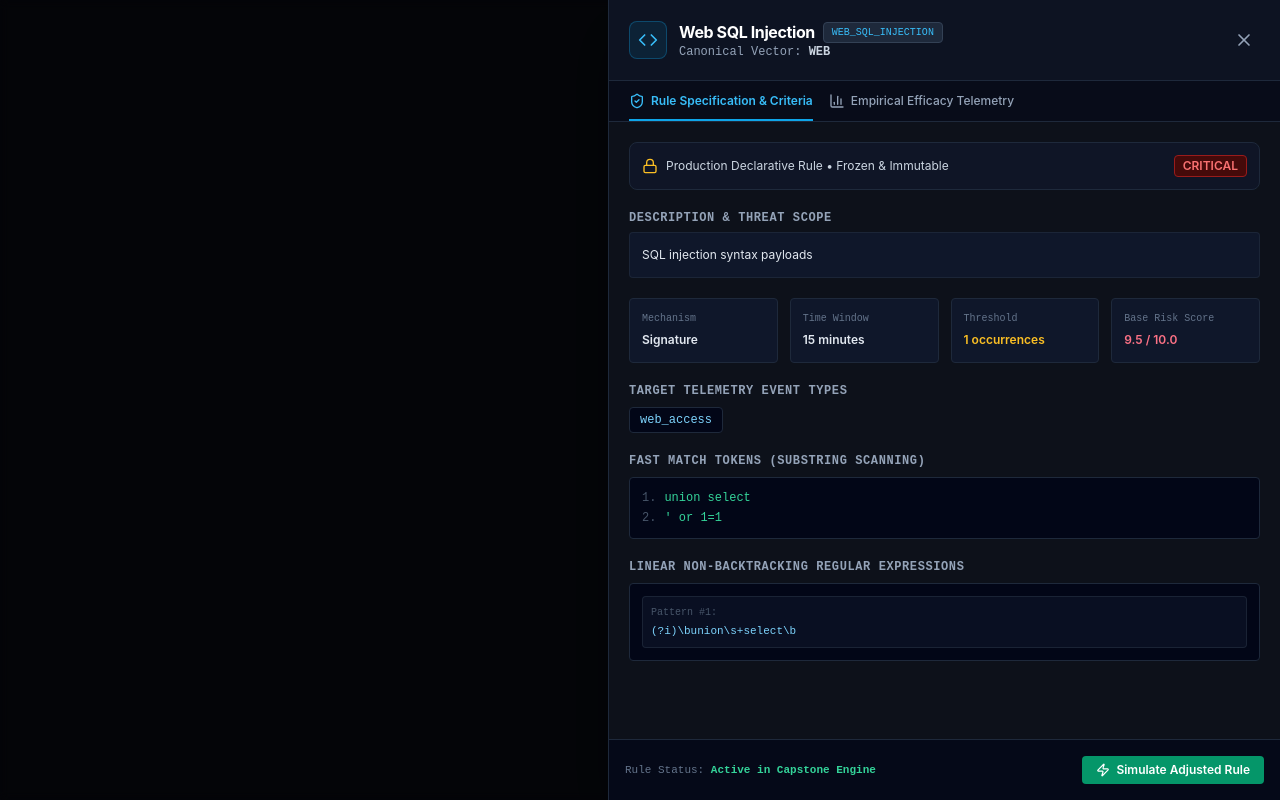
it: Module 3.3 Frontend Components › renders RuleDetailDrawer with criteria, match tokens, and efficacy tab
Expected: the heading "Web SQL Injection" is shown, left=679, top=20, right=815, bottom=44
Expected: the text "union select" is shown, left=664, top=490, right=751, bottom=504
# Switch to Efficacy Tab
Click the button "Empirical Efficacy Telemetry".
click(921, 107)  # box left=829, top=93, right=1014, bottom=121
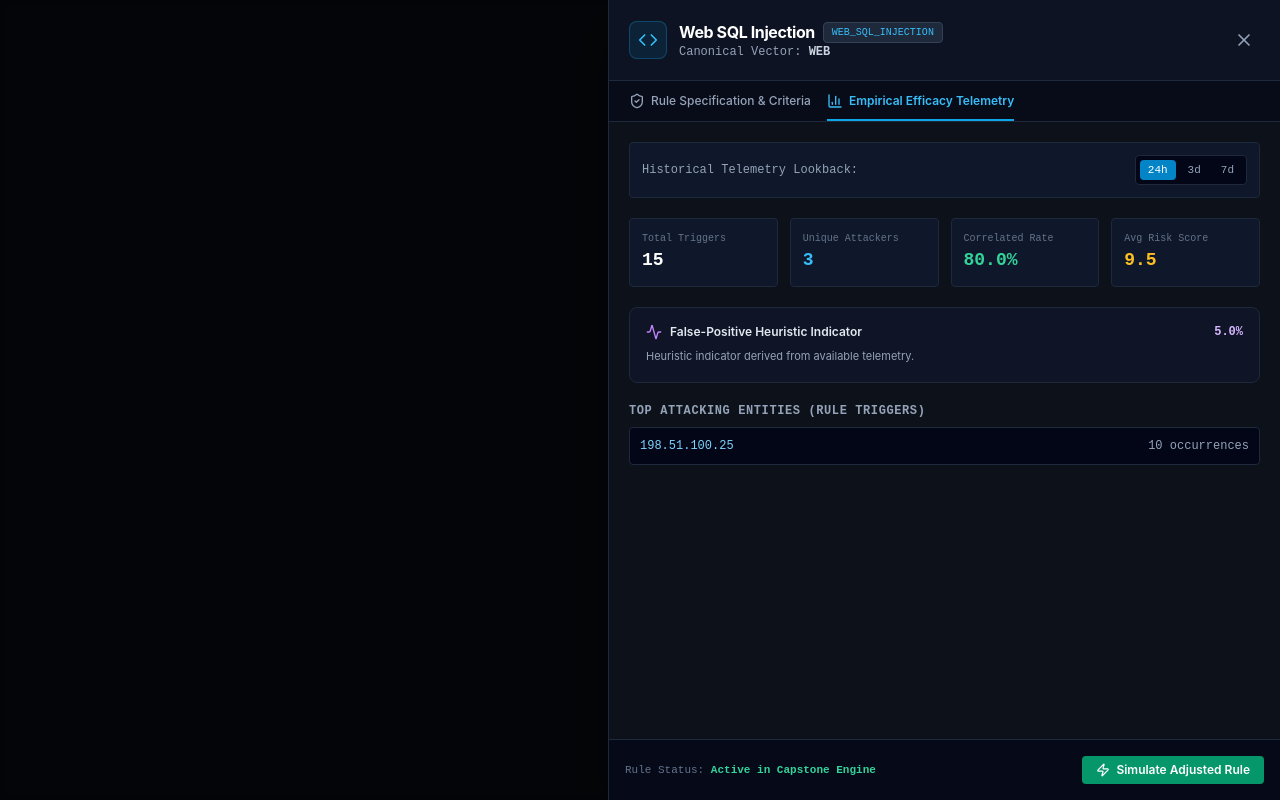
Expected: the text "15" is shown, left=642, top=250, right=664, bottom=270
Expected: the text "80.0%" is shown, left=964, top=250, right=1018, bottom=270
Expected: the text "198.51.100.25" is shown, left=640, top=438, right=734, bottom=454
